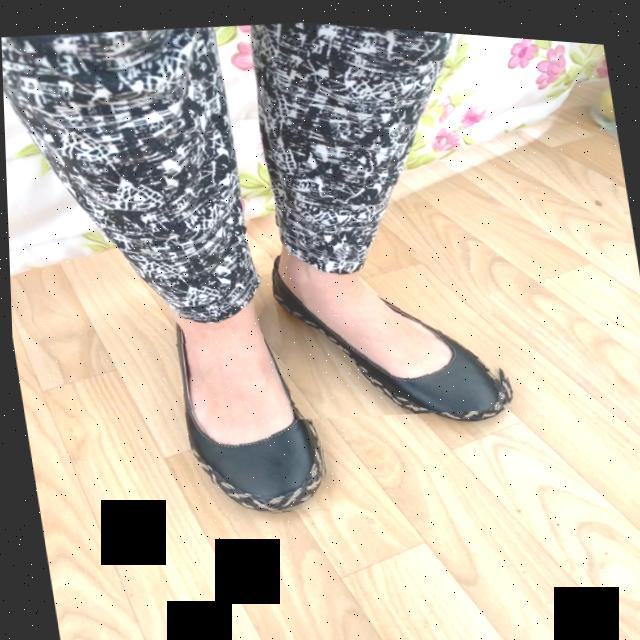shoe: (271, 247, 501, 405), (172, 301, 322, 509)
